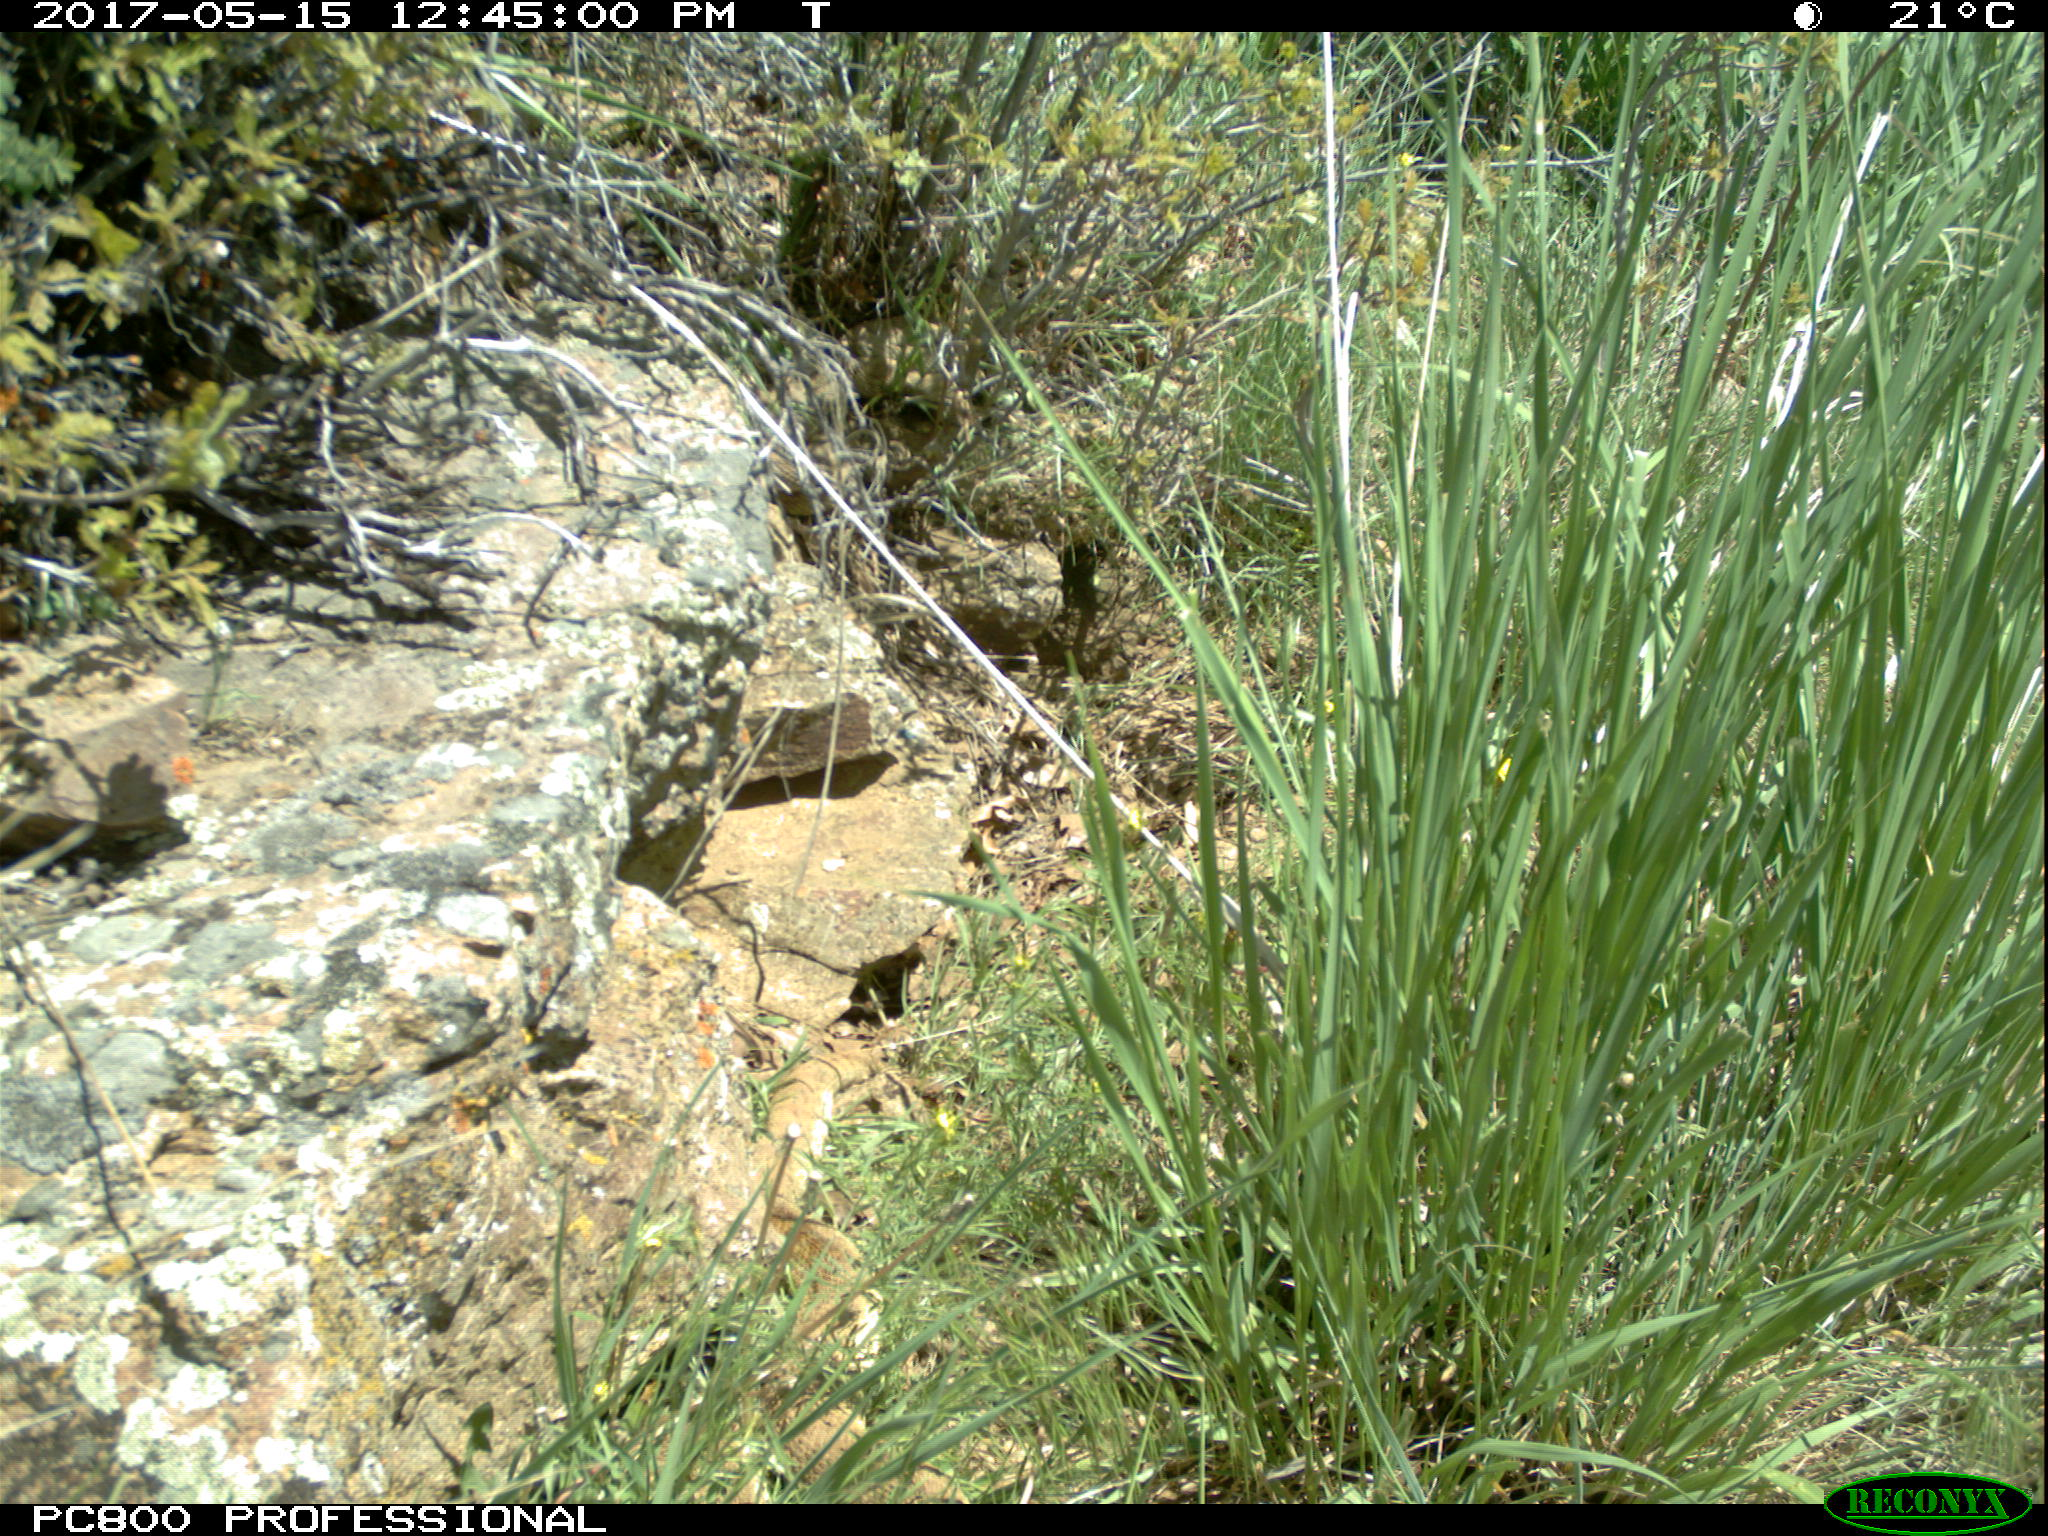snake: (761, 1050, 872, 1486)
